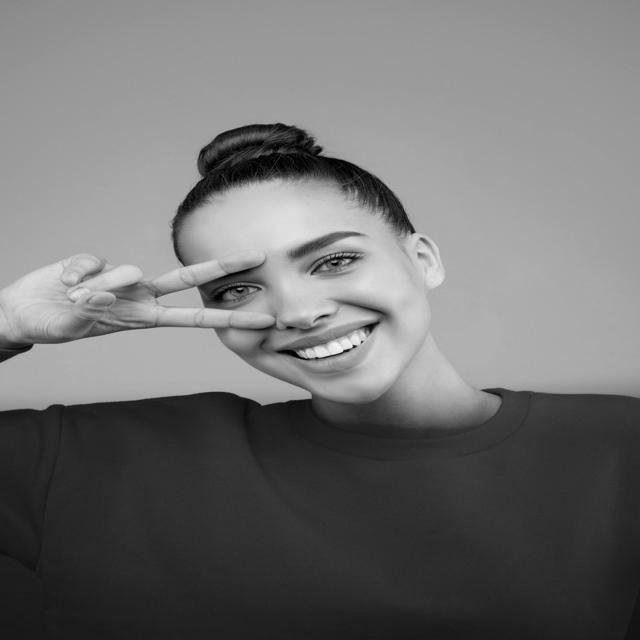Happiness: (177, 178, 429, 405)
